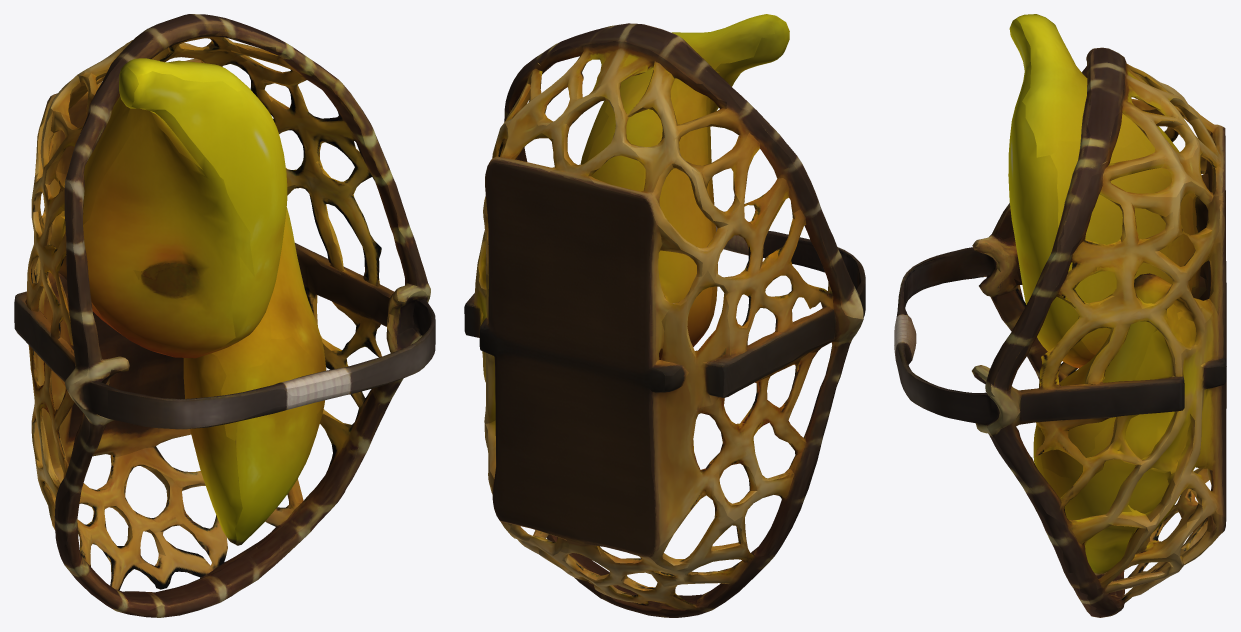
File: basket.obj
The picture shows the model from 3 angles, left to right: view 1: azimuth 30°, elevation 25°; view 2: azimuth 150°, elevation 25°; view 3: azimuth 270°, elevation 25°; orthographic projection. The views are drawn at different scales.
Bounding box in the file's own units: 0.1259 × 0.2 × 0.1097.
1 material, 1 textured.
